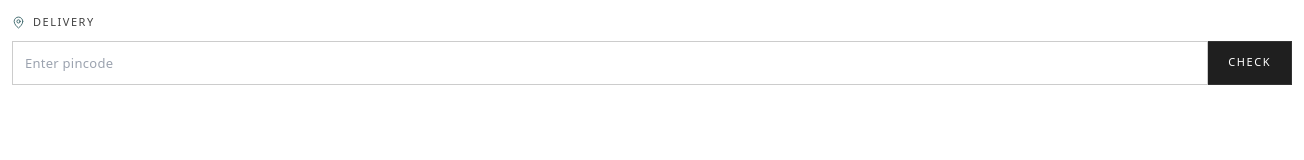
PincodeChecker › leaves a pincode it cannot vouch for to checkout, with no date or COD
Step 1. Type "999999" into the field with placeholder "Enter pincode" → (610,62), box top-left (12, 40), bottom-right (1208, 84)
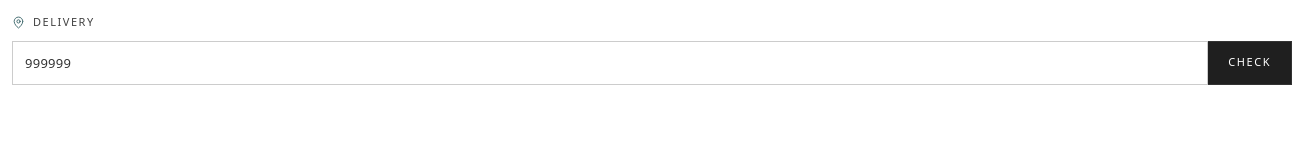
Step 2. Click the button "Check" → (1250,62), box top-left (1208, 40), bottom-right (1292, 84)
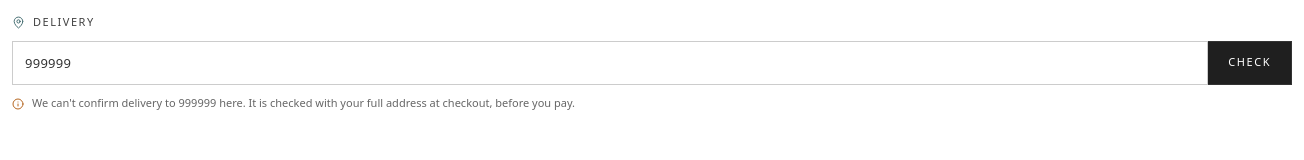
Expected: the text "checked with your full address at checkout" is shown, top-left (216, 94), bottom-right (575, 110)
